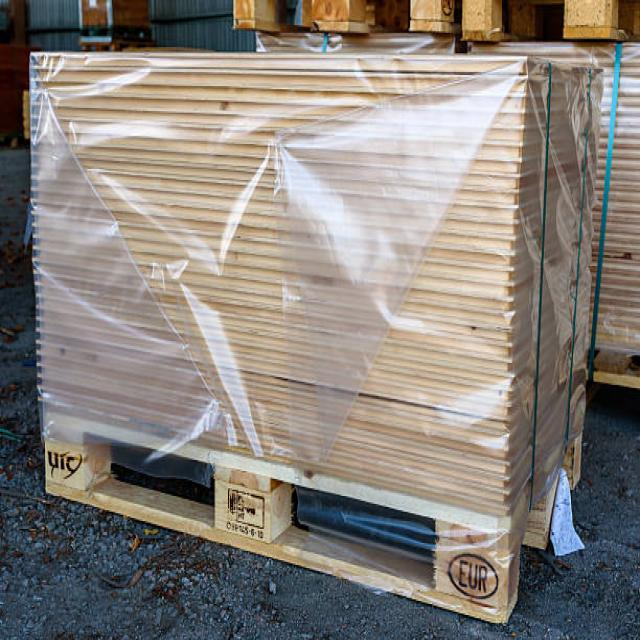Wooden-Pallets: (45, 414, 518, 629)
